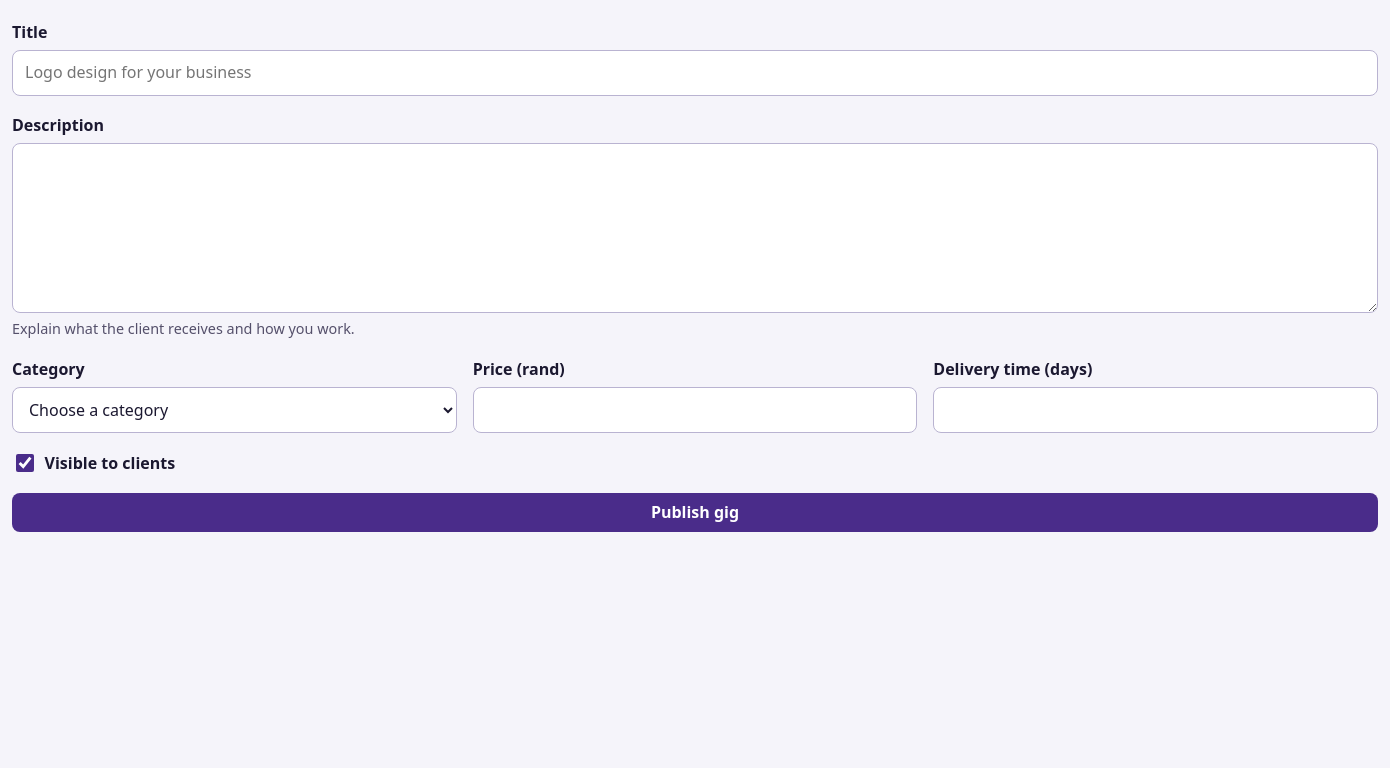
it: GigForm › shows an error for every invalid field and does not submit
Click the button "Publish gig" at (695, 512), box [12, 493, 1378, 532]
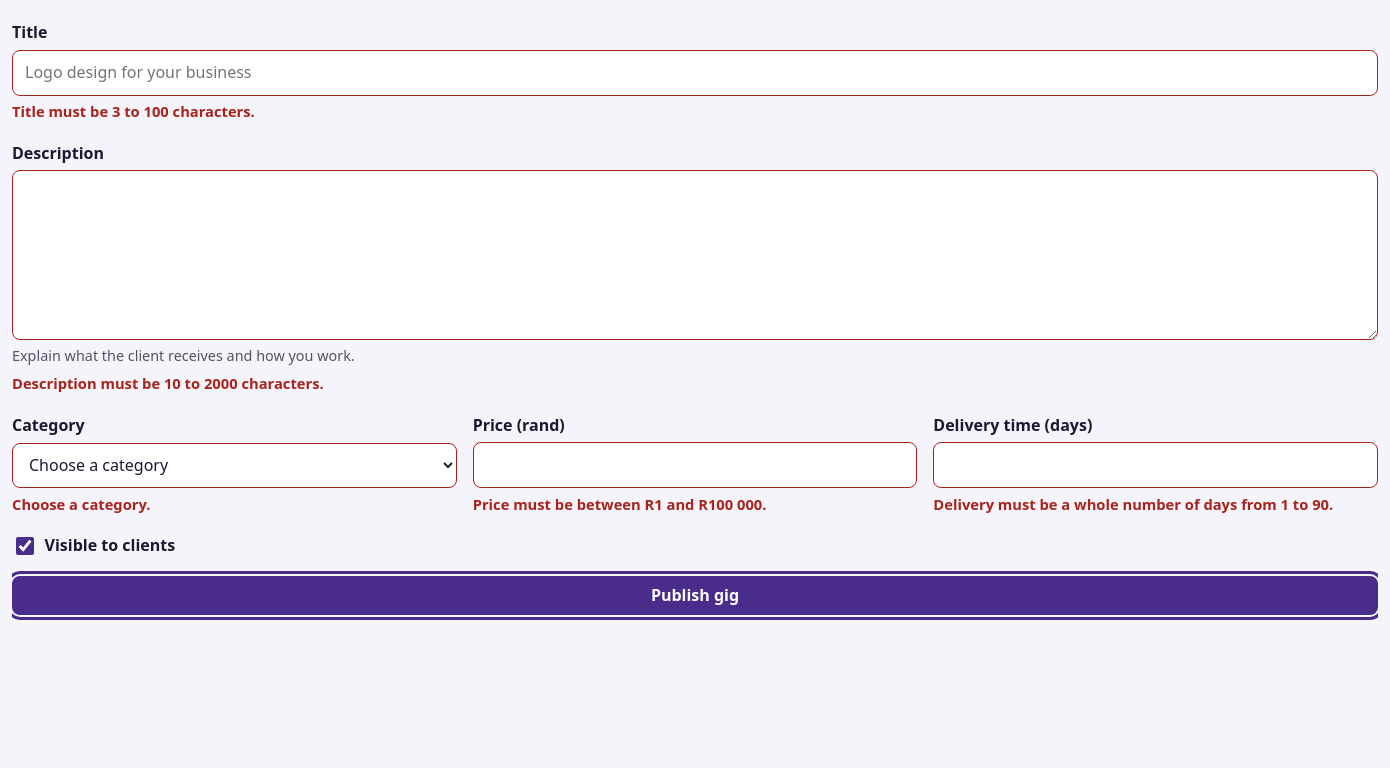
Expected: the text "Title must be 3 to 100 characters." is shown, [12, 101, 255, 121]
Expected: the text "Choose a category." is shown, [12, 494, 150, 514]
Expected: the text "Price must be between R1 and R100 000." is shown, [473, 494, 766, 514]
